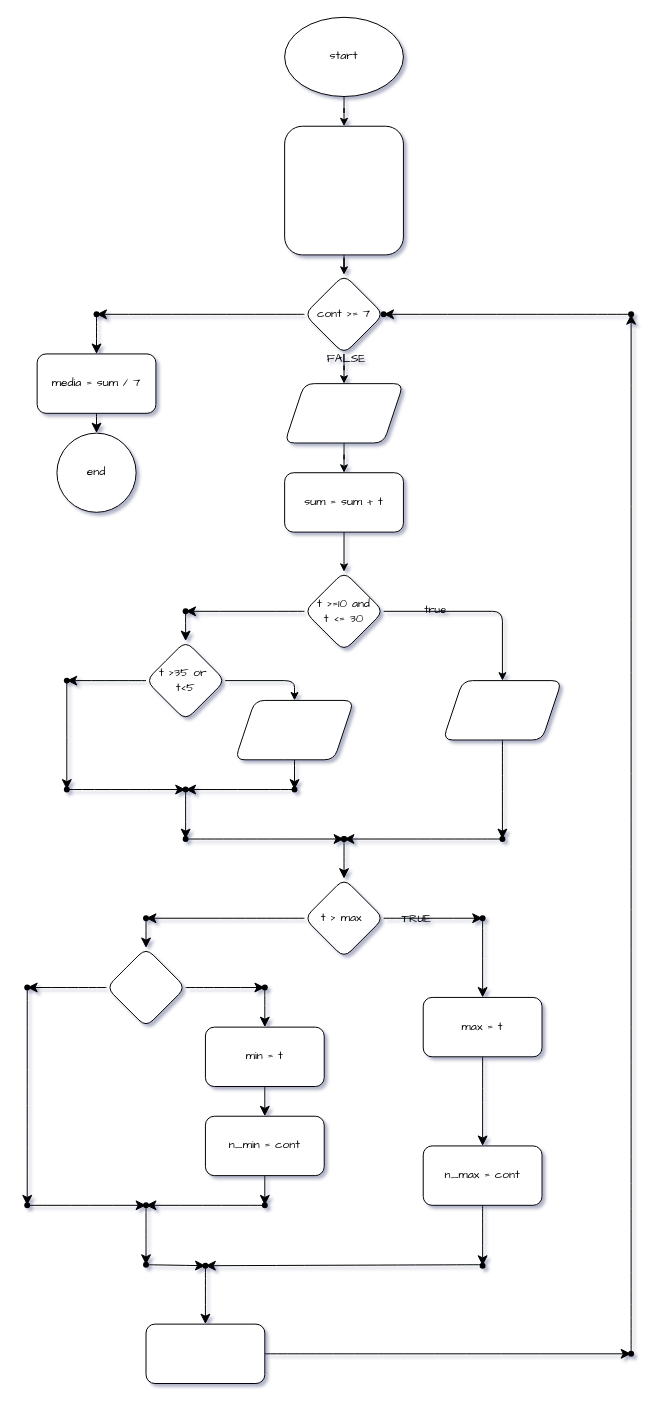
The diagram is 664 pixels wide and 1407 high, and some of its shapes have lost their labels. The shapes that lost their labels are listed below. From the top down, each one's centre as x and y in pixels, then its label:
At [343,190]: "cont = 0 t = 0 max = -10000 min = 10000 n_max = 0 n_min 0".
At [343,413]: "write t".
At [294,729]: "write allerta temperatura".
At [502,710]: "write temperatura nella norma".
At [145,987]: "t < min".
At [205,1353]: "cont += 1".
